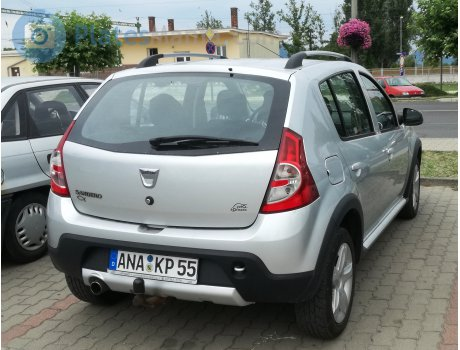License Plates: (119, 248, 192, 279)
